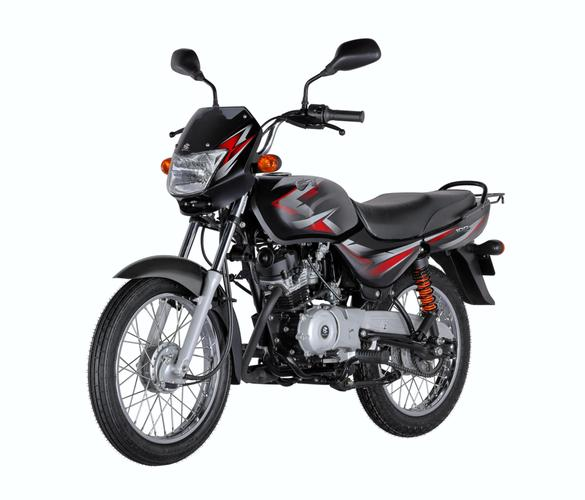摩托车: (88, 52, 514, 473)
